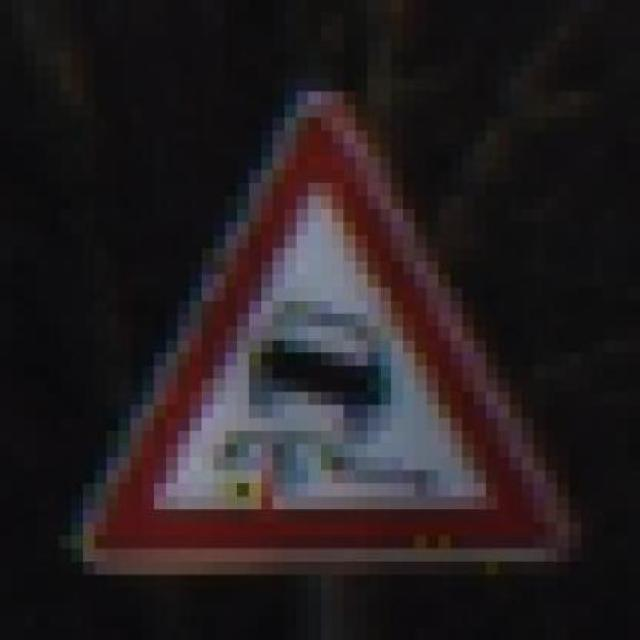Slippery Road Ahead: (70, 65, 582, 562)
